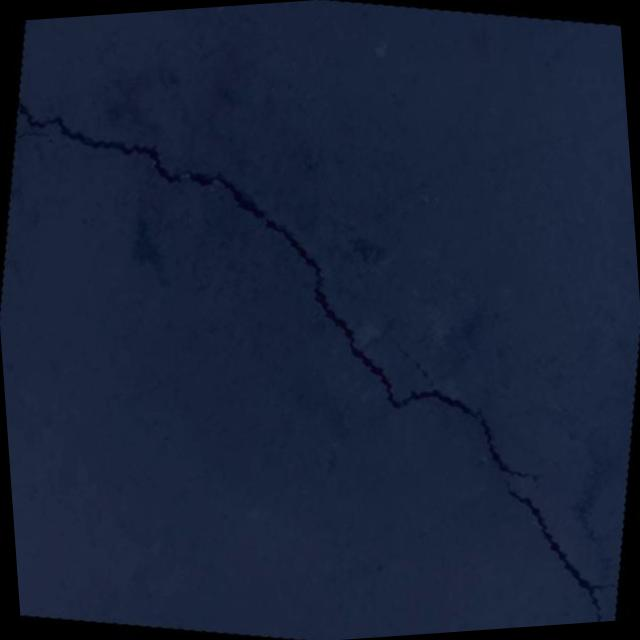crack: (0, 55, 640, 640), (13, 125, 72, 154)
